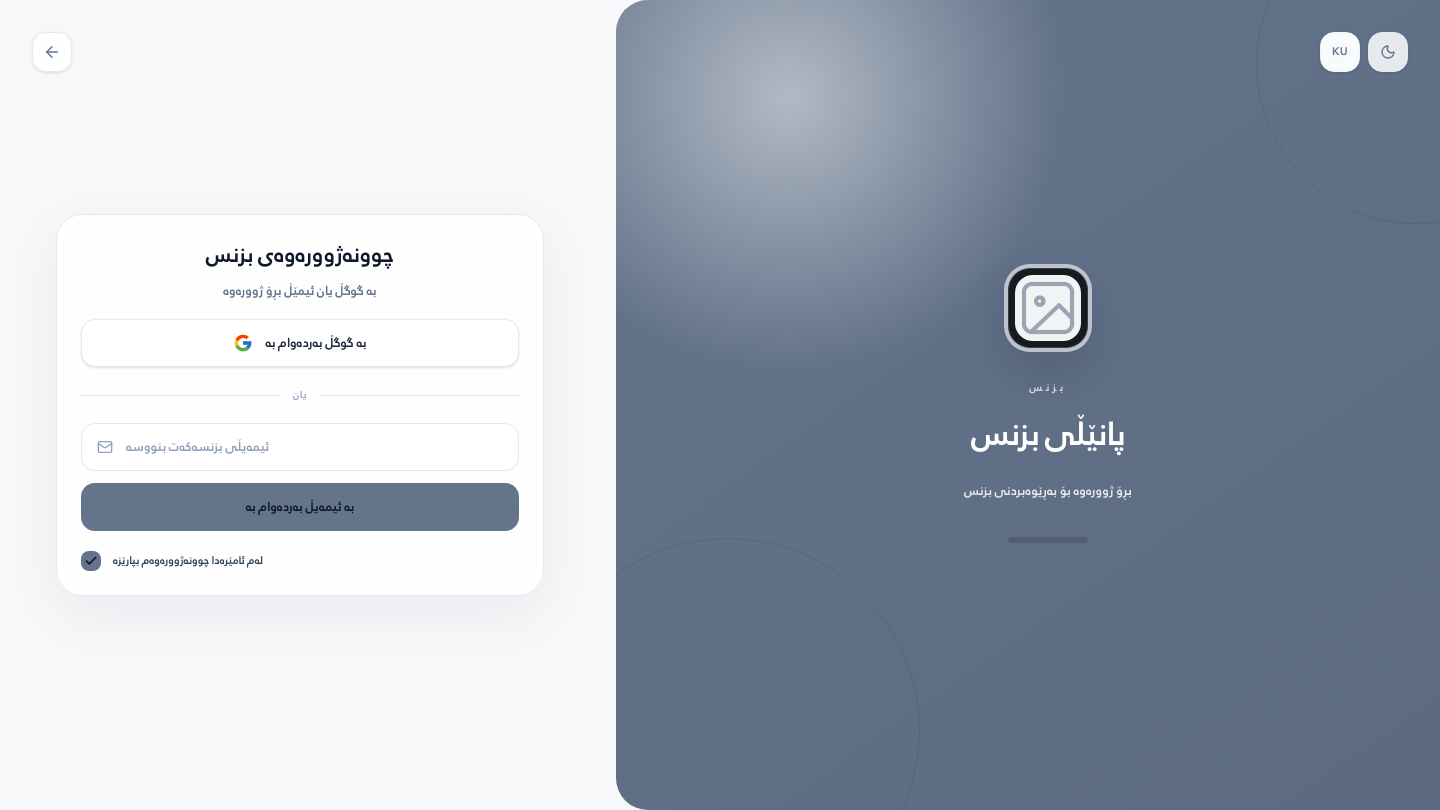
Scenario: BusinessWorkspaceEntryPage › switches pre-sign-in controls to Arabic without changing the Google route
The width and height of the screenshot is (1440, 810).
Click the button with aria-label "گۆڕینی زمان بۆ عەرەبی" at x=1340, y=52, box [1320, 32, 1360, 72]
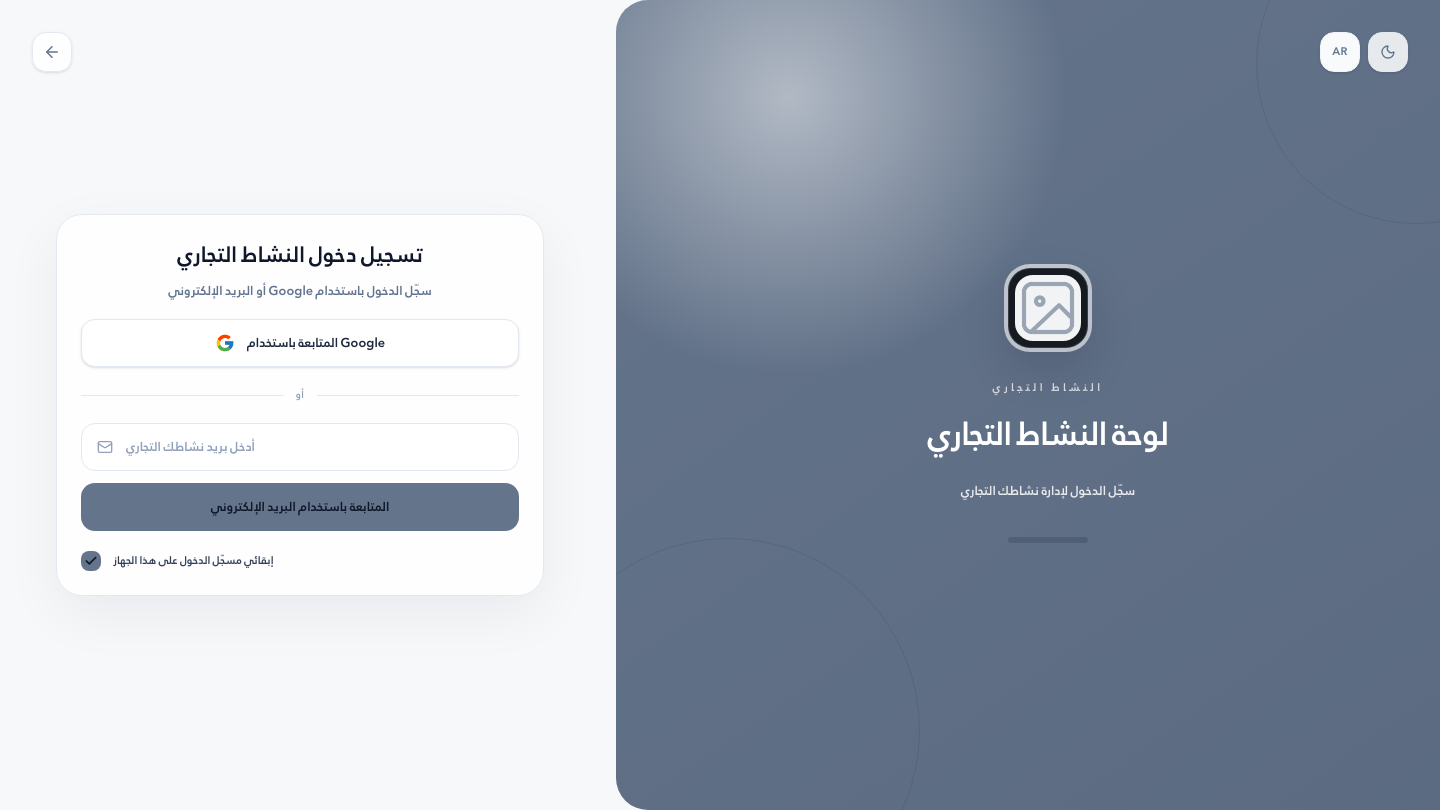
Result: the heading "تسجيل دخول النشاط التجاري" is shown at [177, 236, 423, 274]
Result: the field named "عنوان البريد الإلكتروني" is shown at [81, 423, 519, 471]
